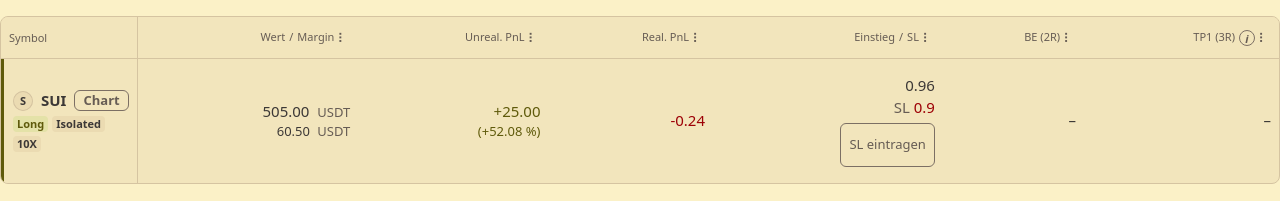
Scenario: Ursprünglichen SL eintragen: Eingabe › öffnet ein Textfeld mit inputmode decimal, Speichern und Abbrechen
What coordinates should you click on to do the following:
click the button "SL eintragen"
I would click on:
 (888, 144)
Its box is x1=840 y1=122 x2=935 y2=166.
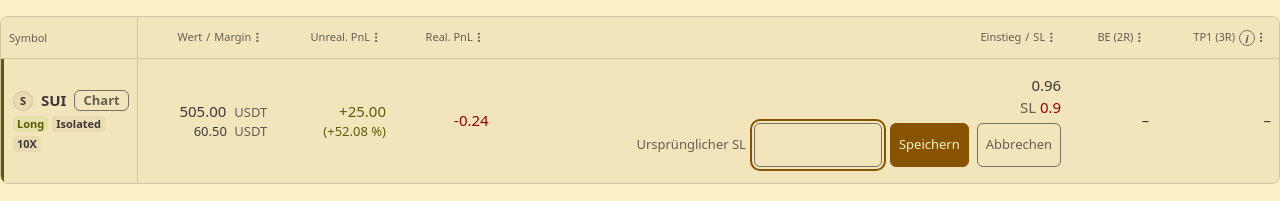
Expected: the button "Speichern" is shown, x1=890 y1=122 x2=969 y2=166
What coordinates should you click on to do the following:
click the button "Abbrechen"
I would click on:
 (1019, 144)
Its box is x1=977 y1=122 x2=1061 y2=166.
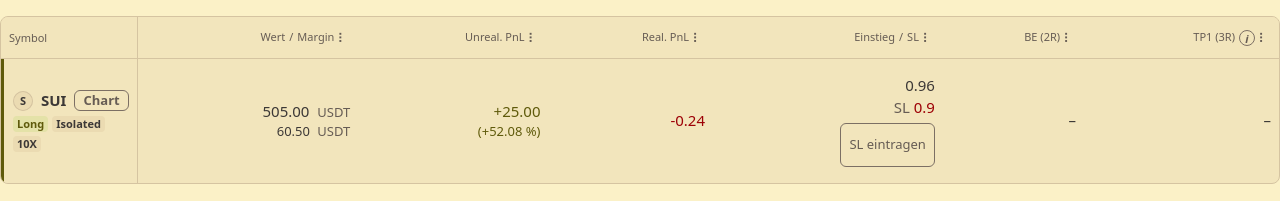
Expected: the label labelled "Ursprünglicher SL" is gone
